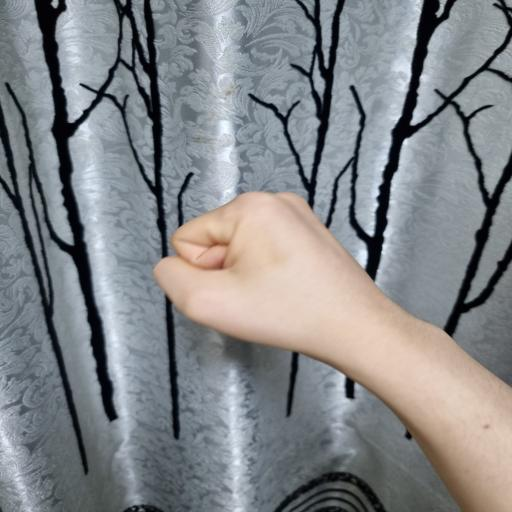Rock: (152, 188, 390, 378)
